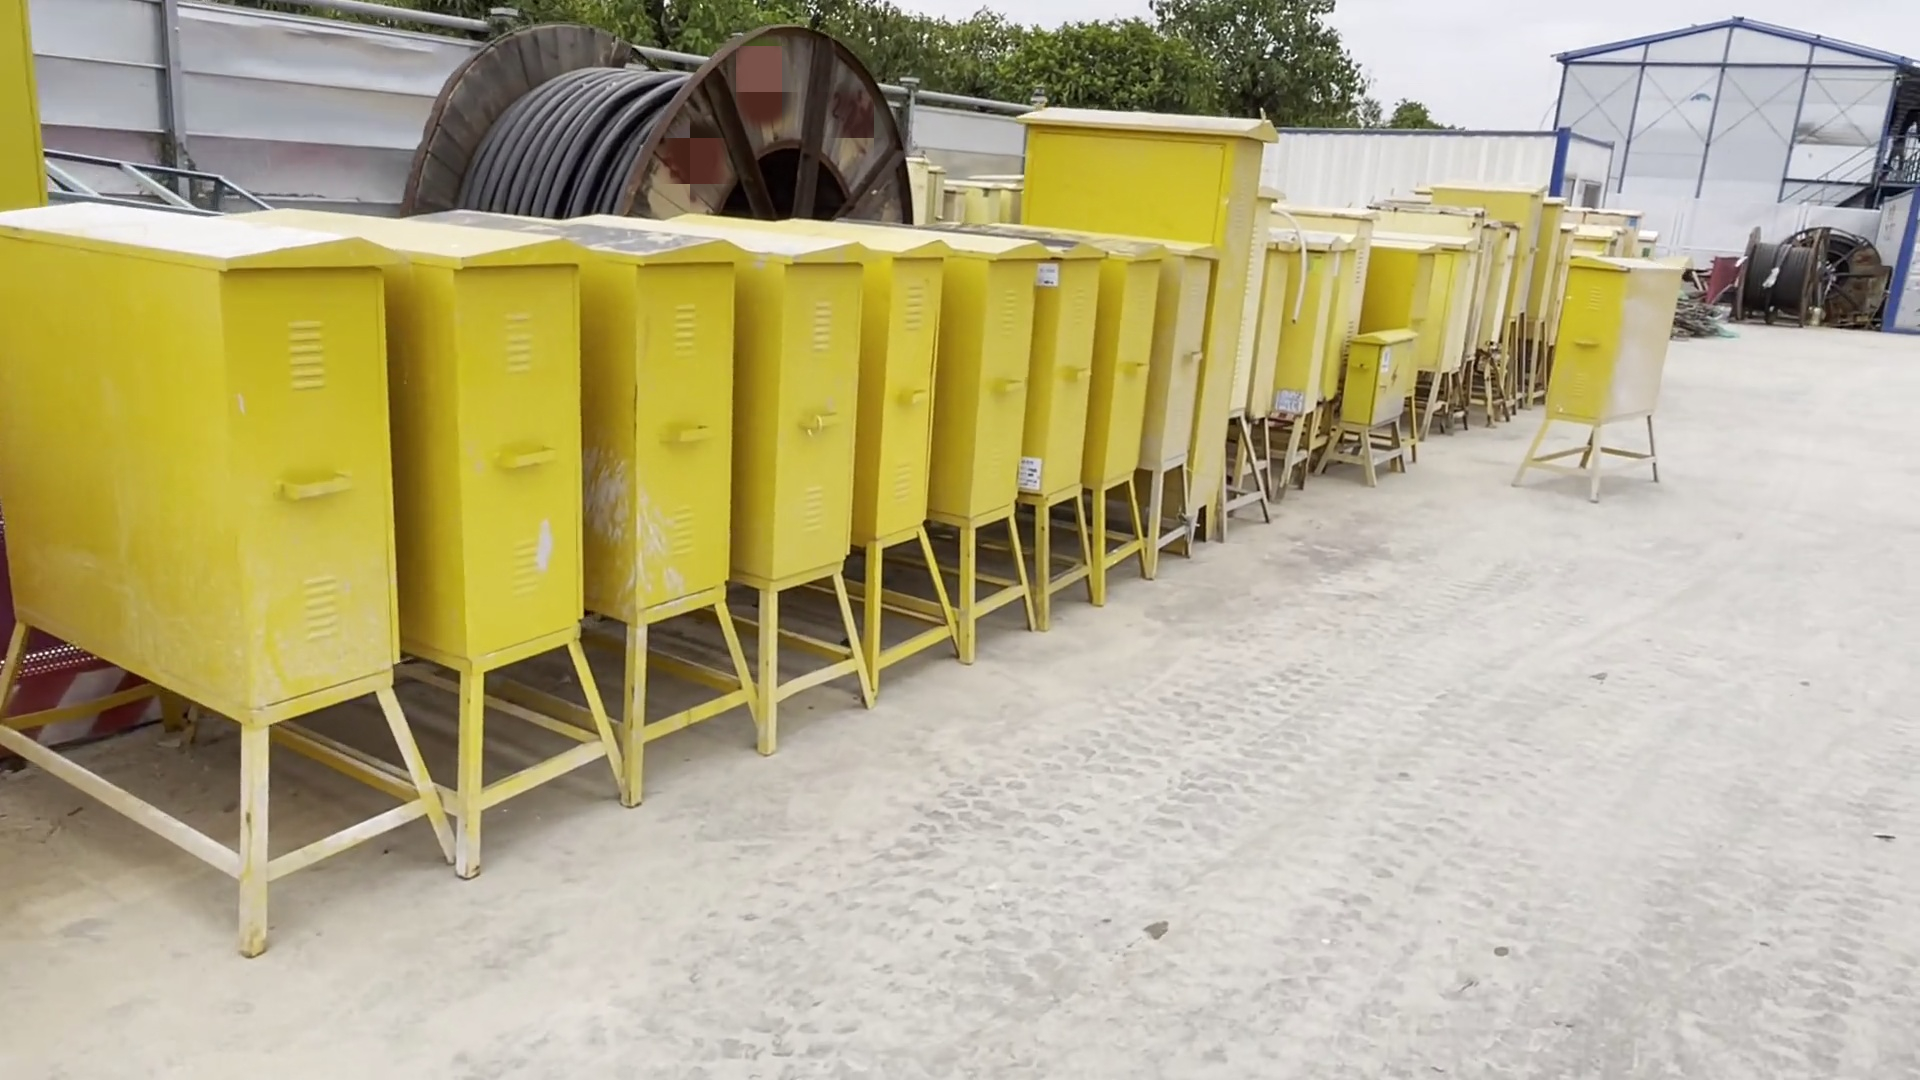ebox: (1, 208, 456, 982), (440, 194, 624, 807), (564, 237, 767, 760), (1026, 102, 1222, 545), (723, 223, 874, 719), (848, 229, 968, 667), (945, 231, 1039, 638), (1520, 248, 1667, 500), (1034, 227, 1104, 608), (1093, 239, 1150, 582), (1266, 239, 1335, 497), (1153, 248, 1204, 567), (1320, 324, 1407, 483)
